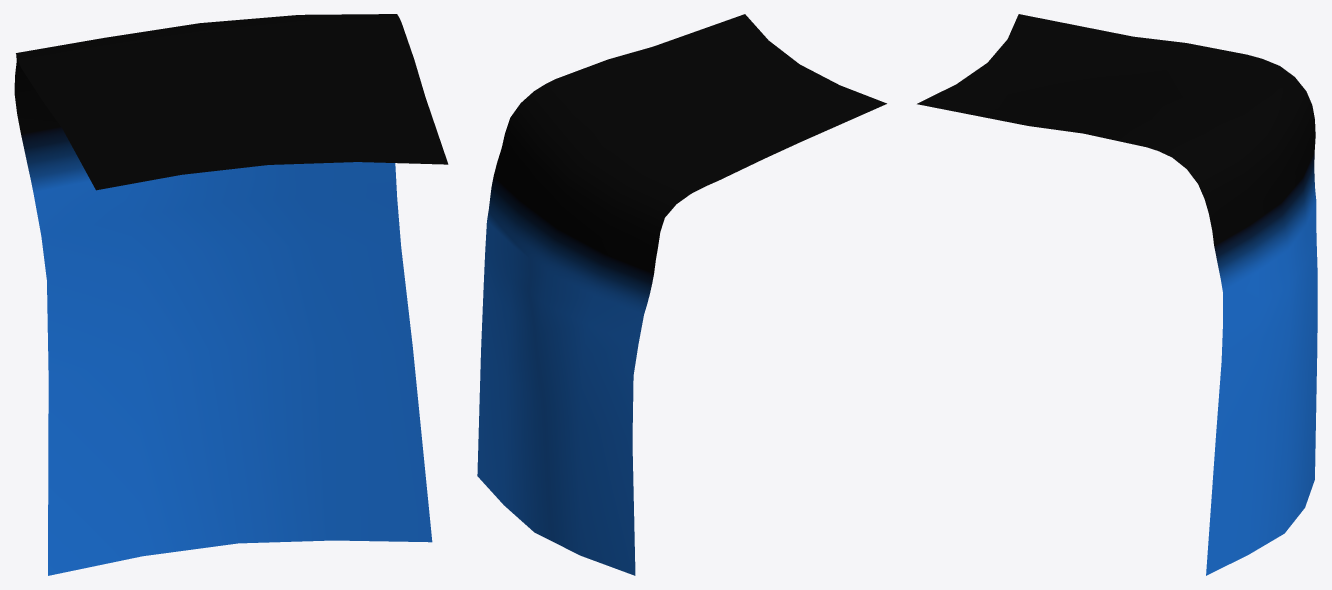
File: SM_EastLands_DemoSceneWaterfall_02.fbx
3 views of the same model, side by side, from view 1: azimuth 30°, elevation 25°; view 2: azimuth 150°, elevation 25°; view 3: azimuth 270°, elevation 25° (orthographic). The views are drawn at different scales.
Parts seen in each view (by area): view 1: SM_FarEast_DemoSceneWaterfall_02; view 2: SM_FarEast_DemoSceneWaterfall_02; view 3: SM_FarEast_DemoSceneWaterfall_02.
Boxes of the visible parts, <box> form: SM_FarEast_DemoSceneWaterfall_02: <box>14,14,448,575</box>; SM_FarEast_DemoSceneWaterfall_02: <box>477,14,886,575</box>; SM_FarEast_DemoSceneWaterfall_02: <box>917,14,1317,575</box>.
Bounding box in the file's own units: 32.41 × 38.86 × 33.86.
